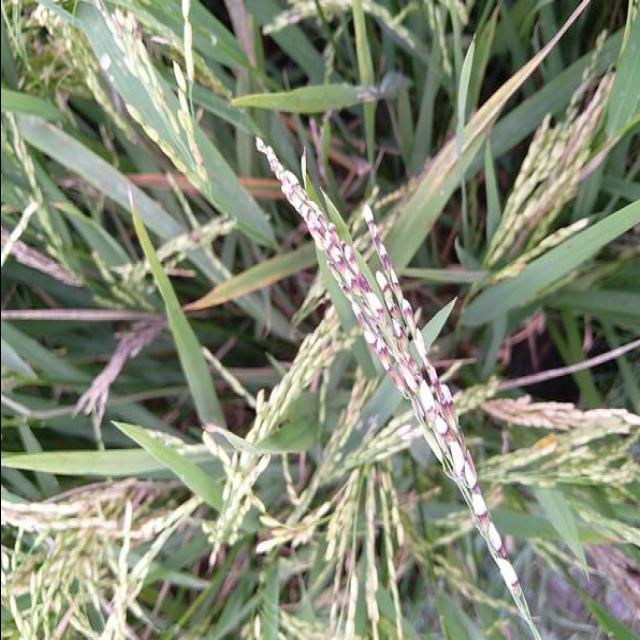Panicle Blight: (389, 366, 410, 397), (329, 251, 355, 274), (323, 228, 343, 257), (350, 274, 370, 297), (401, 307, 416, 337), (276, 524, 307, 538), (334, 508, 349, 535), (406, 354, 420, 382), (374, 344, 390, 367), (283, 182, 299, 205), (308, 222, 325, 241), (379, 251, 391, 277), (390, 278, 401, 300), (441, 400, 455, 415), (367, 319, 381, 334), (380, 280, 390, 300), (395, 331, 404, 352), (373, 230, 380, 257), (432, 379, 440, 402), (476, 509, 488, 524), (442, 430, 455, 443), (367, 337, 380, 350), (375, 306, 386, 320), (355, 313, 366, 327), (339, 284, 349, 298), (390, 304, 399, 319), (304, 205, 312, 221), (498, 545, 506, 557), (471, 482, 478, 491), (512, 580, 519, 587), (426, 408, 433, 413)
